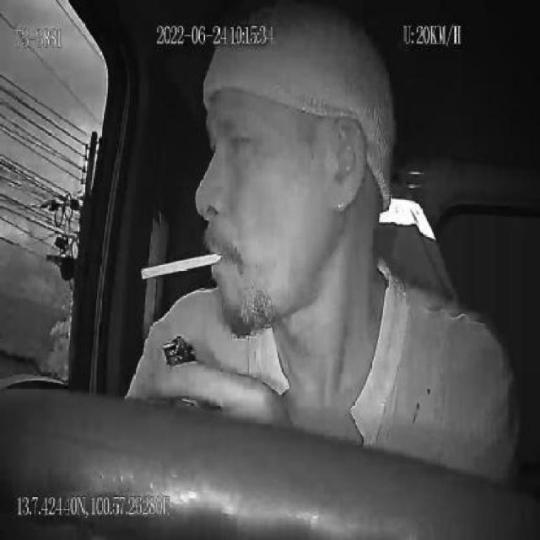smoking: (140, 246, 224, 280)
